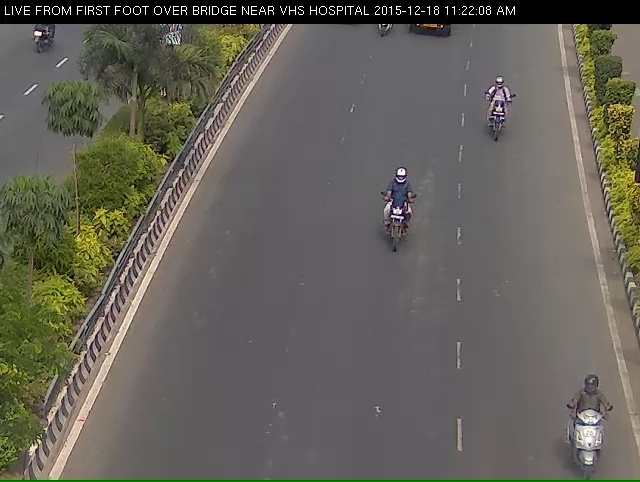Person: (567, 391, 617, 476), (373, 180, 413, 272), (481, 82, 521, 156)
